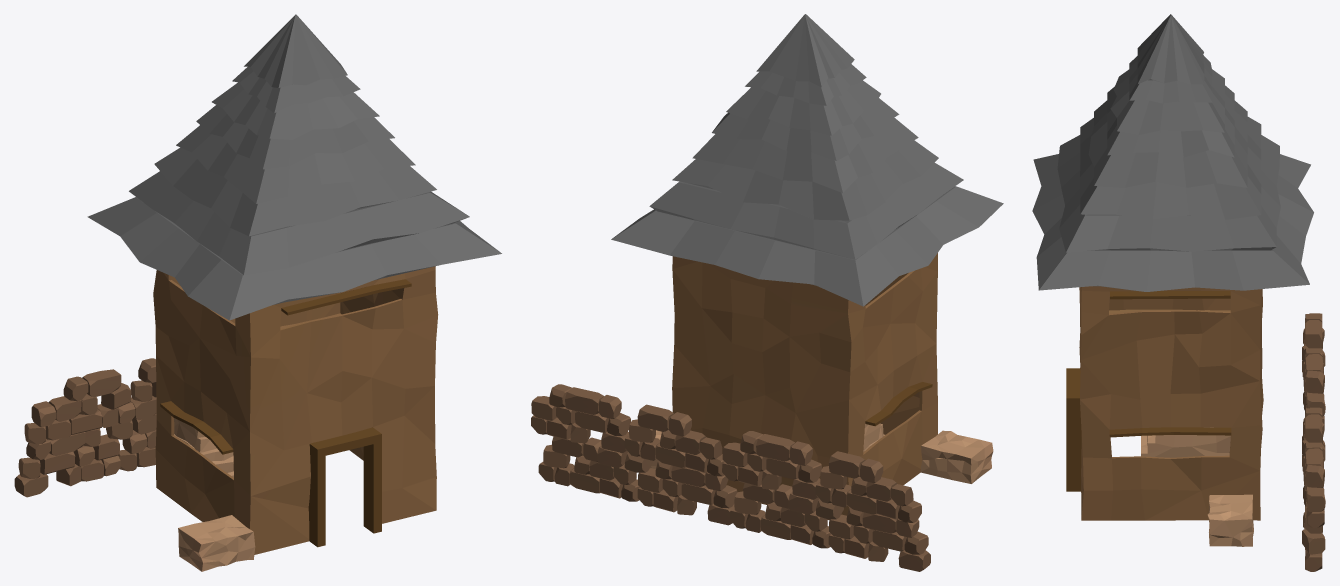
File: Mali_A.fbx
3 views of the same model, side by side, from view 1: azimuth 30°, elevation 25°; view 2: azimuth 150°, elevation 25°; view 3: azimuth 270°, elevation 25° (orthographic). The views are drawn at different scales.
Visible parts, largest first — view 1: Mali_A; view 2: Mali_A; view 3: Mali_A.
Boxes of the visible parts, left/top/right/bottom form: Mali_A: left=14, top=14, right=501, bottom=571; Mali_A: left=531, top=14, right=1003, bottom=571; Mali_A: left=1032, top=14, right=1325, bottom=571.
Size of the model in its own units: 1167 by 1310 by 750.
Materials: 1 (1 with a texture image).
